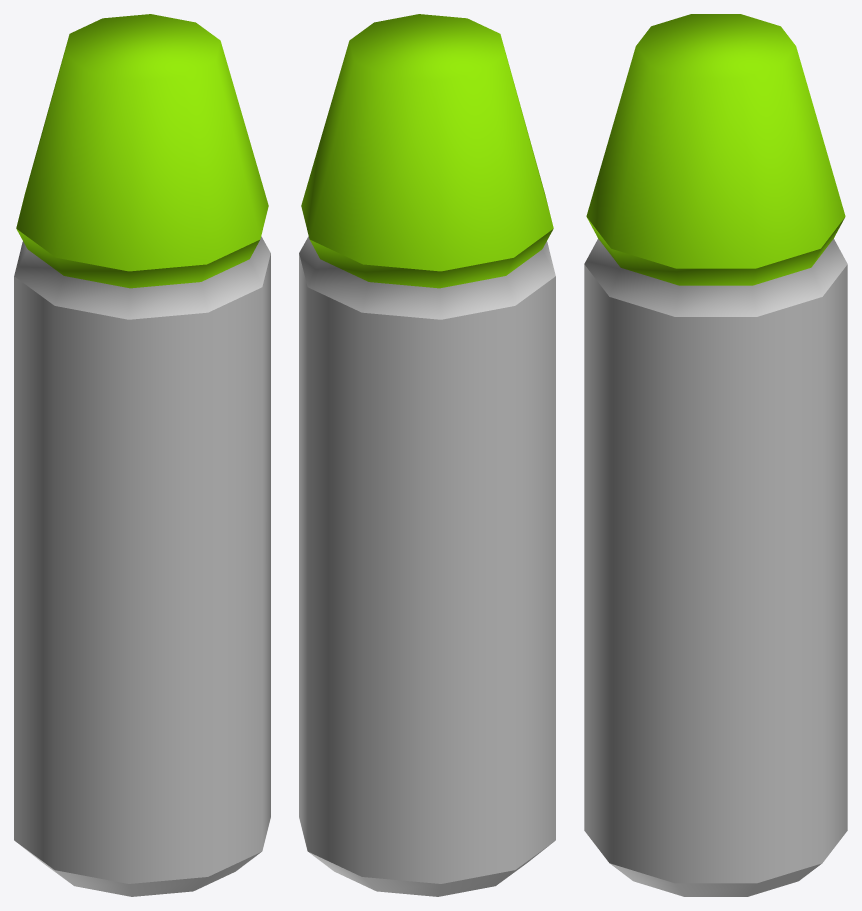
Rendered from Bullet A Mat.fbx.
The picture shows the model from 3 angles, left to right: view 1: azimuth 30°, elevation 25°; view 2: azimuth 150°, elevation 25°; view 3: azimuth 270°, elevation 25°; orthographic projection.
Parts seen in each view (by area): view 1: Bullet A Mat; view 2: Bullet A Mat; view 3: Bullet A Mat.
Boxes of the visible parts, x1,y1,x2,y2 form: Bullet A Mat: (14,14,270,896); Bullet A Mat: (299,14,555,896); Bullet A Mat: (584,14,847,896).
Bounding box in the file's own units: 0.0549 × 0.1955 × 0.0577.
